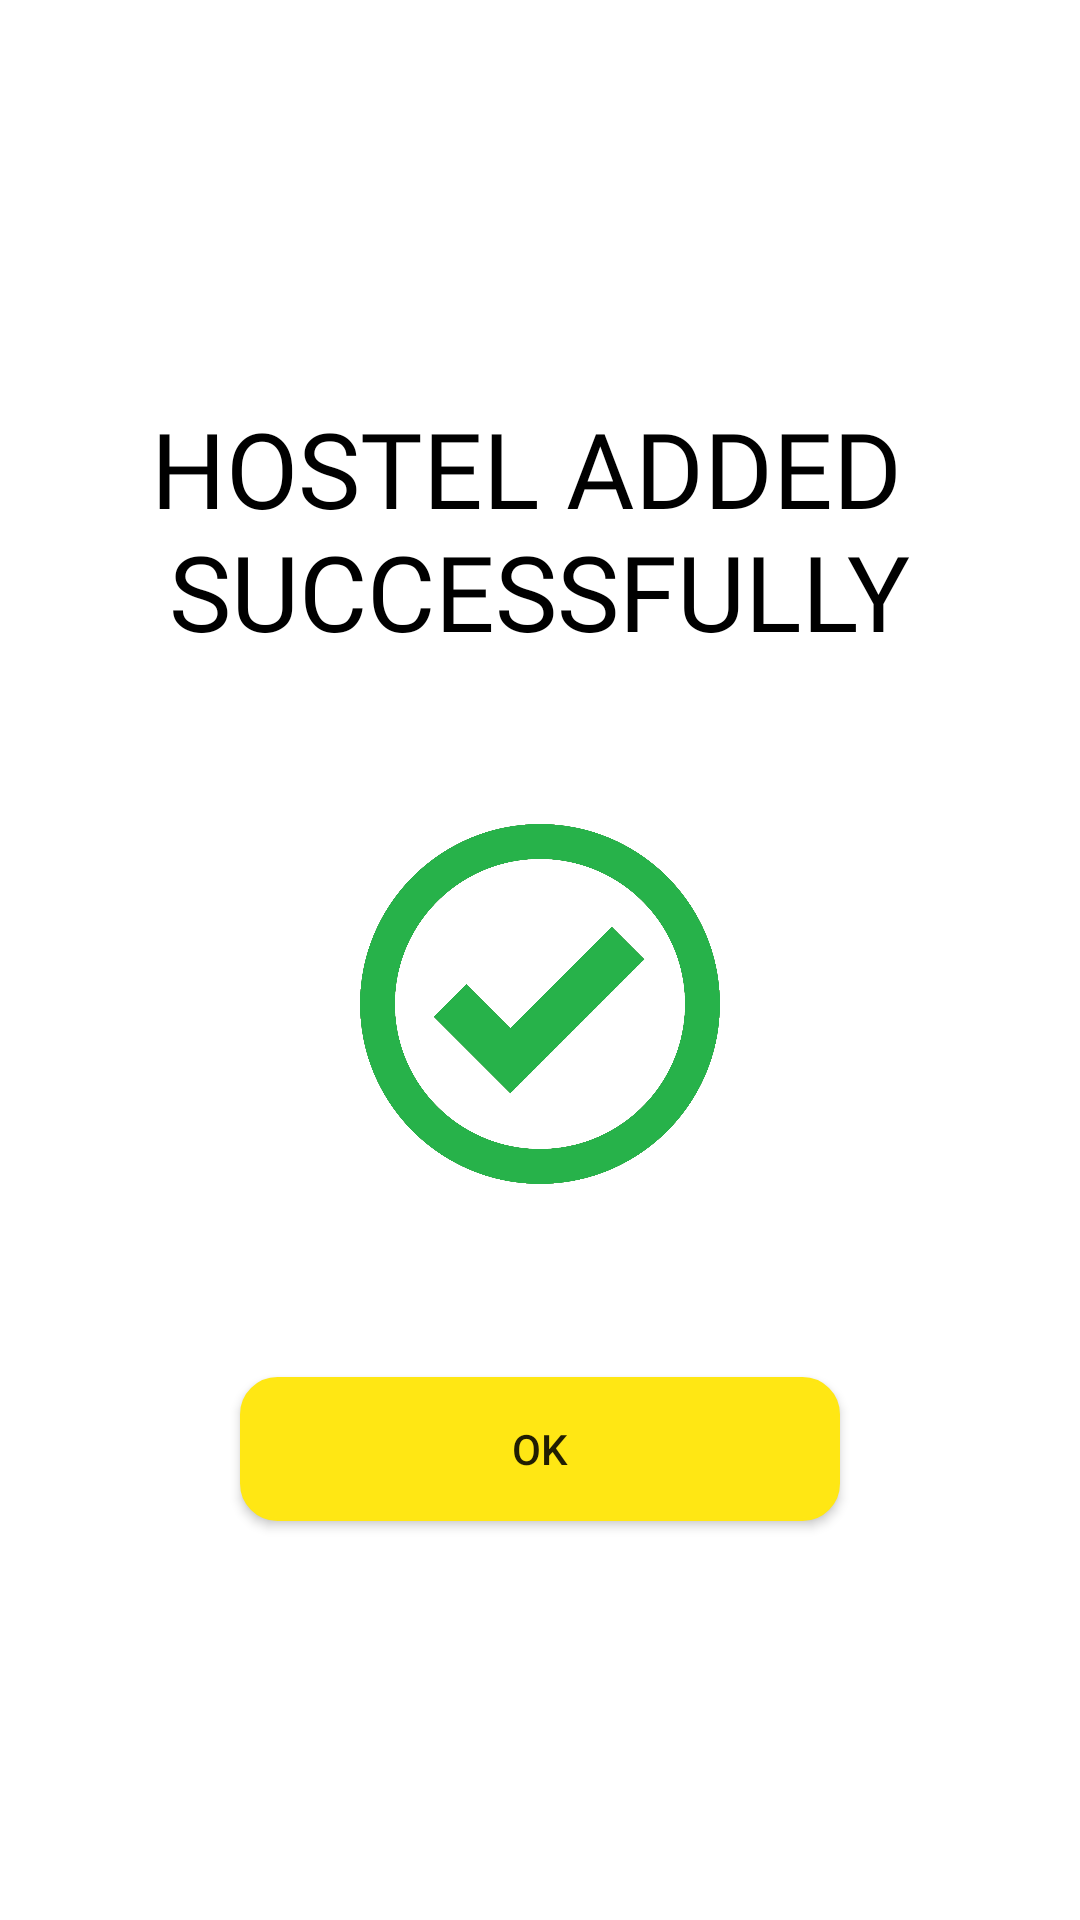

Icon click points for this 1080 x 1920 phone screenshot, format [x,y]:
checked: [540,1004]
